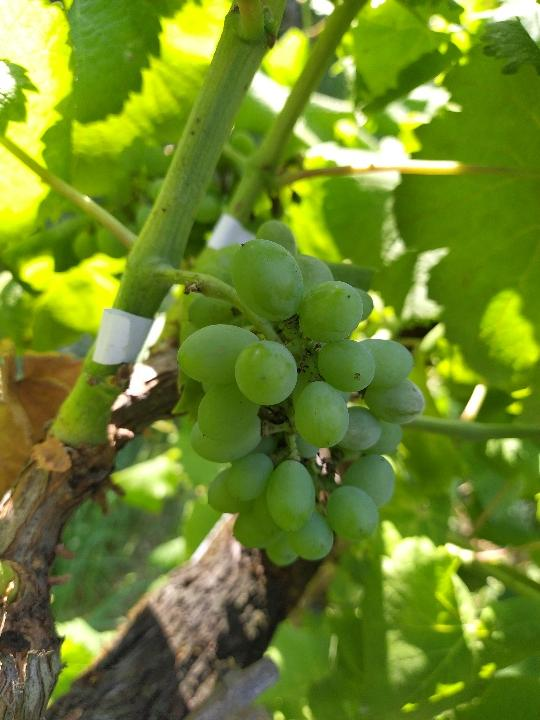grape: (171, 212, 434, 571)
